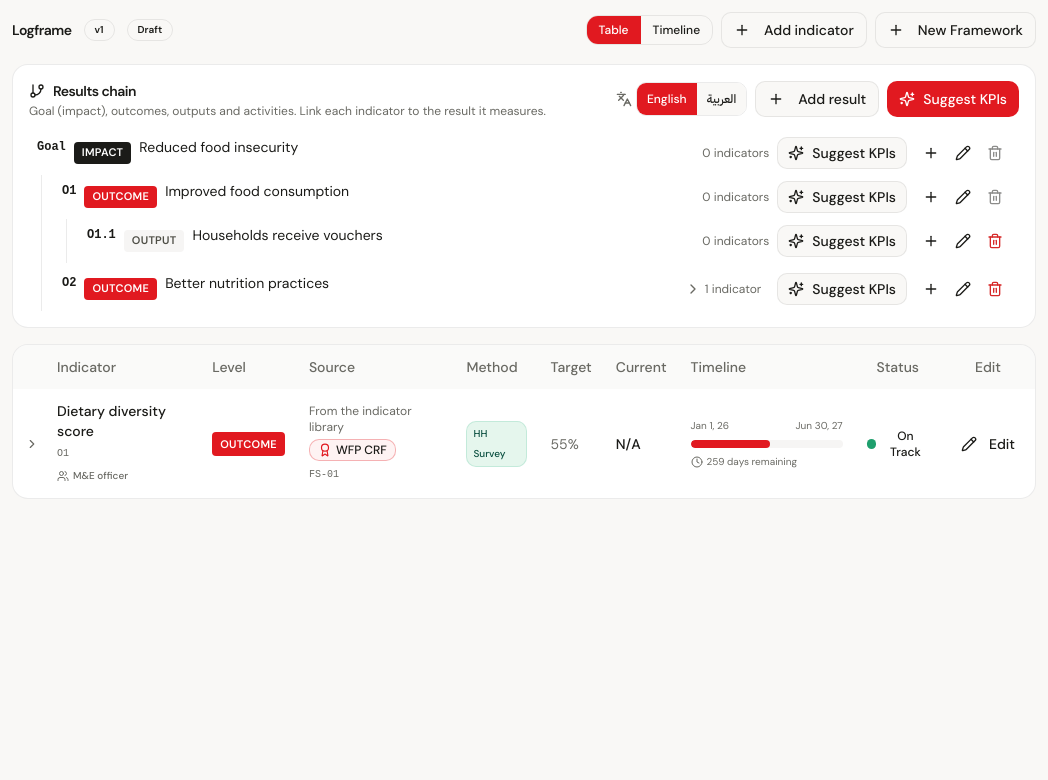
it: IndicatorTable › passes the indicators to the results chain, where each result's count opens its list
Click the button named "1 indicator (O2)".
click(723, 289)  # box x1=677 y1=273 x2=769 y2=305
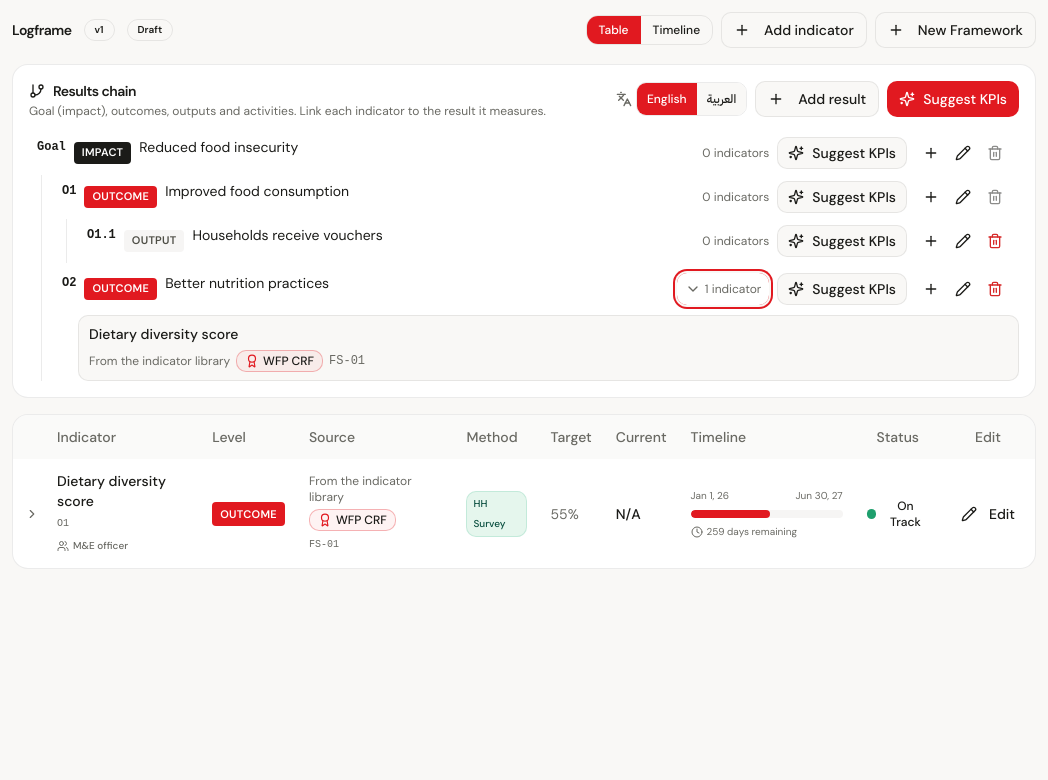
Expected: the button with aria-label "Suggest KPIs for O2" is shown, x1=777 y1=273 x2=907 y2=305
Now the text "Dietary diversity score" below "O2" is shown, box x1=89 y1=325 x2=238 y2=343
